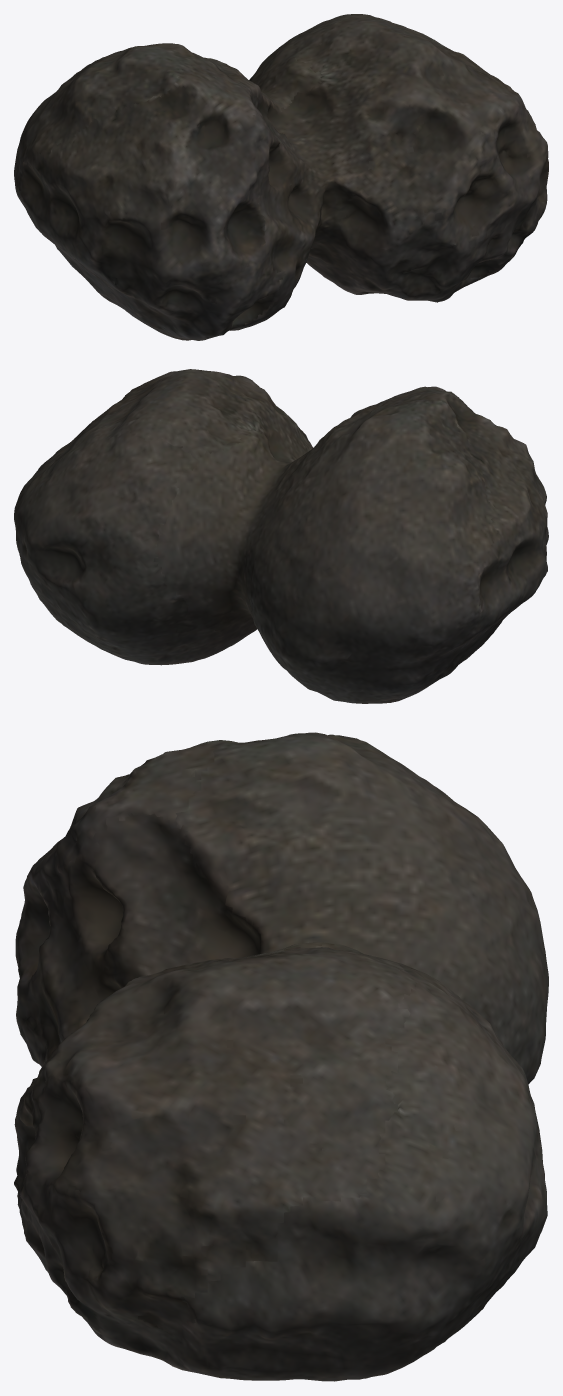
File: asteroid_rare_3_lod1.glb
The picture shows the model from 3 angles, top to bottom: view 1: azimuth 30°, elevation 25°; view 2: azimuth 150°, elevation 25°; view 3: azimuth 270°, elevation 25°; orthographic projection. The views are drawn at different scales.
Visible parts, largest first — view 1: model; view 2: model; view 3: model.
Boxes of the visible parts, left/top/right/bottom form: model: left=14, top=14, right=548, bottom=340; model: left=14, top=369, right=548, bottom=703; model: left=14, top=732, right=548, bottom=1381.
Bounding box in the file's own units: 1.9 × 1.13 × 1.23.
Materials: 1 (1 with a texture image).
